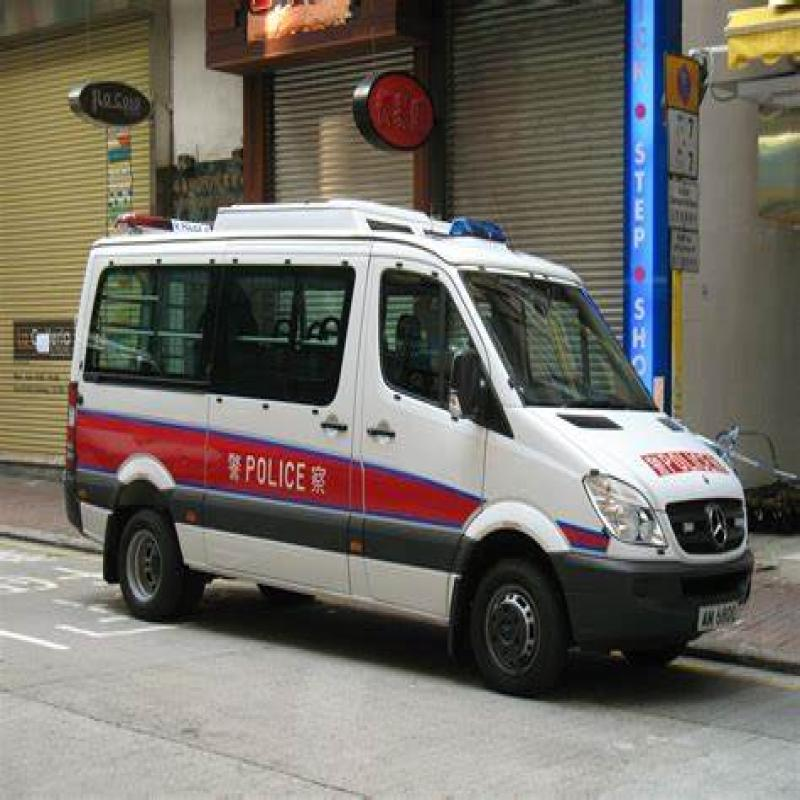AmbulanceSiren: (447, 195, 512, 248)
